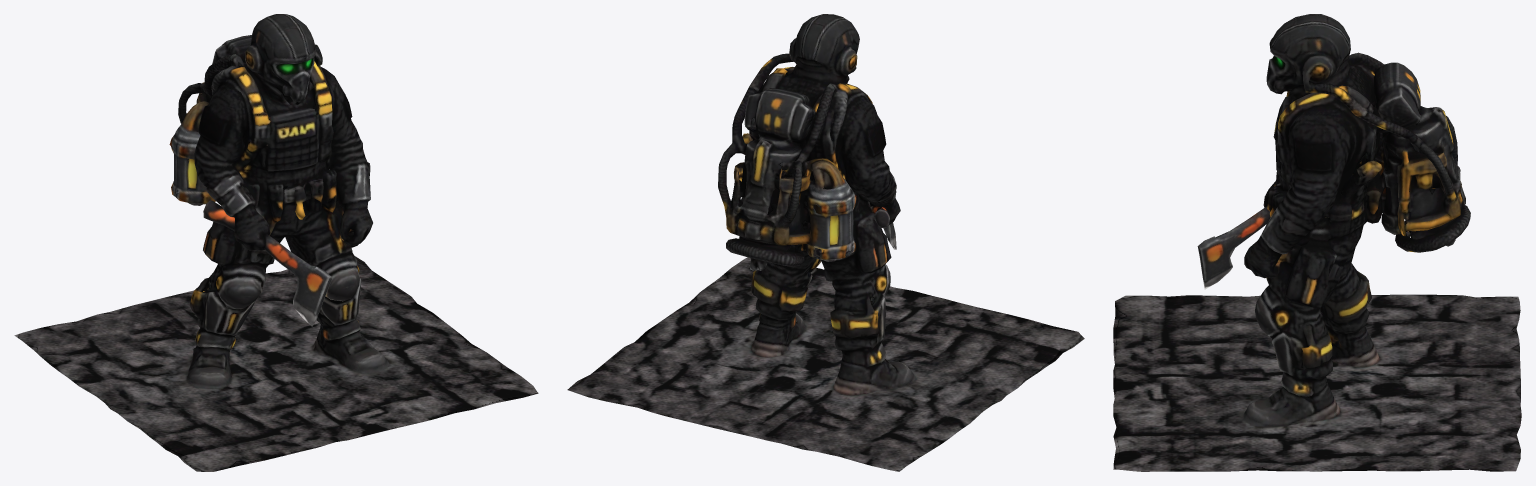
File: engineer_l03.glb
3 renders of one model, left to right at view 1: azimuth 30°, elevation 25°; view 2: azimuth 150°, elevation 25°; view 3: azimuth 270°, elevation 25°, orthographic. The views are drawn at different scales.
Visible parts, largest first — view 1: world; view 2: world; view 3: world.
Boxes of the visible parts, x1,y1,x2,y2 form: world: (14,14,538,471); world: (567,14,1084,471); world: (1113,14,1521,471).
Size of the model in its own units: 1 by 1 by 0.9756.
1 material, 1 textured.
